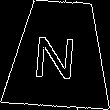N_N: (35, 28, 83, 81)
